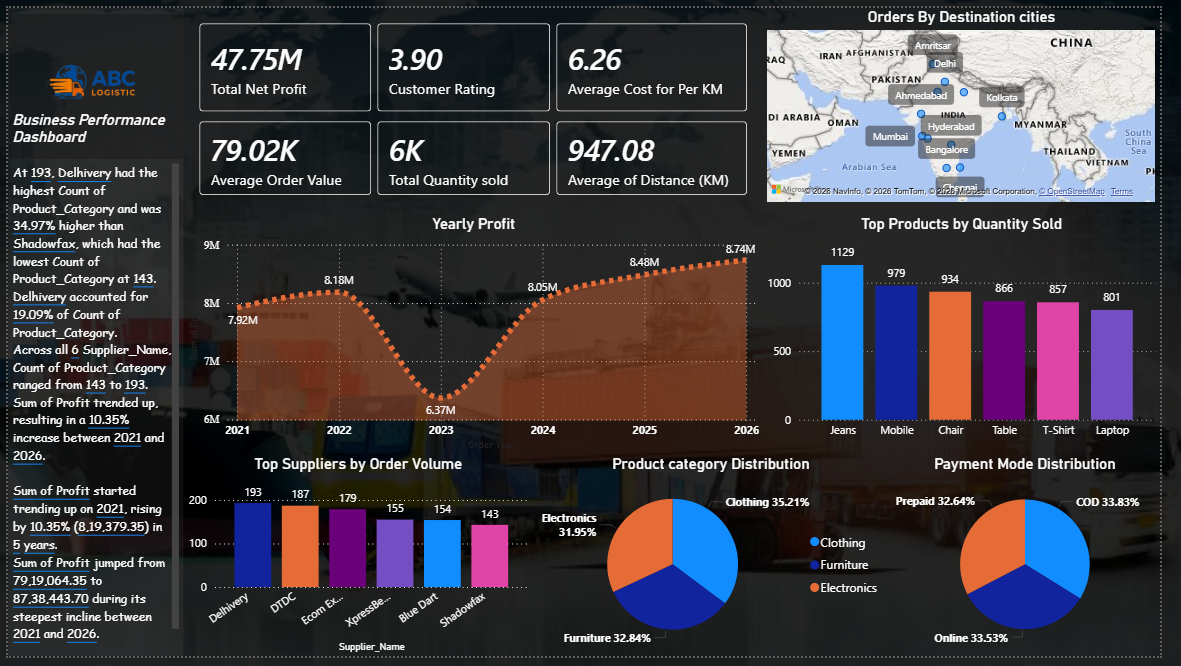

What the dashboard file says about the page in this screenshot:
{"tool":"powerbi","page":{"name":"Dashboard","canvas":[1280,720],"ordinal":0},"visuals":[{"type":"cardVisual","fields":{"Data":["Logistic.total quantity sold"]},"box":[393.8,108.8,226.2,116.2],"z":0},{"type":"cardVisual","title":"Customer Rating","fields":{"Data":["Avg(Logistic.Customer_Rating)"]},"box":[393.8,0,226.2,132.5],"z":1000},{"type":"cardVisual","fields":{"Data":["Sum(Logistic.Profit)"]},"box":[195,0,225,132.5],"z":2000},{"type":"cardVisual","fields":{"Data":["Logistic.Average ordervalue"]},"box":[195,108.8,225,116.2],"z":3000},{"type":"shape","box":[0,0,195,720],"z":4000},{"type":"pieChart","title":"Product category Distribution","fields":{"Category":["Logistic.Product_Category"],"Y":["CountNonNull(Logistic.Product_Category)"]},"box":[582.5,496.2,397.5,223.8],"z":5000},{"type":"pieChart","title":"Payment Mode Distribution","fields":{"Category":["Logistic.Payment_Mode"],"Y":["CountNonNull(Logistic.Payment_Mode)"]},"box":[980,496.2,300,223.8],"z":6000},{"type":"cardVisual","title":"Customer Rating","fields":{"Data":["Avg(Logistic.Cost_per_KM)"]},"box":[592.5,0,246.2,132.5],"z":7000},{"type":"cardVisual","title":"Customer Rating","fields":{"Data":["Avg(Logistic.Distance_KM)"]},"box":[592.5,108.8,246.2,116.2],"z":8000},{"type":"map","title":"Orders By Destination cities","fields":{"Category":["Logistic.Destination_City"]},"box":[838.9,0,441.1,221.1],"z":9000},{"type":"lineChart","title":"Yearly Profit","fields":{"Y":["Sum(Logistic.Profit)"],"Category":["Logistic.Order Year"]},"box":[195,230,643.8,266.2],"z":10000},{"type":"columnChart","title":"Top Products by Quantity Sold","fields":{"Category":["Logistic.Product_Name"],"Y":["Sum(Logistic.Quantity)"],"Series":["Logistic.Product_Name"]},"box":[838.8,230,441.2,257.5],"z":11000},{"type":"lineStackedColumnComboChart","title":"Top Suppliers by Order Volume","fields":{"Category":["Logistic.Supplier_Name"],"Y":["CountNonNull(Logistic.Product_Category)"],"Series":["Logistic.Supplier_Name"]},"box":[195,496.2,387.5,223.8],"z":12000},{"type":"textbox","box":[0,6.2,195,161.2],"z":13000},{"type":"textbox","box":[0,167.5,195,552.5],"z":14000},{"type":"image","box":[0,0,195,167.5],"z":15000}]}

Visuals, with their boxes in screenshot pixels (x1, y1, x2, y2), scaled from the page's 1280x720 canvas onto the 1181x666 screenshot:
cardVisual - Logistic.total quantity sold: (x1=363, y1=101, x2=572, y2=208)
"Customer Rating" cardVisual: (x1=363, y1=0, x2=572, y2=123)
cardVisual - Sum(Logistic.Profit): (x1=180, y1=0, x2=388, y2=123)
cardVisual - Logistic.Average ordervalue: (x1=180, y1=101, x2=388, y2=208)
shape: (x1=0, y1=0, x2=180, y2=665)
"Product category Distribution" pieChart: (x1=537, y1=459, x2=904, y2=665)
"Payment Mode Distribution" pieChart: (x1=904, y1=459, x2=1180, y2=665)
"Customer Rating" cardVisual: (x1=547, y1=0, x2=774, y2=123)
"Customer Rating" cardVisual: (x1=547, y1=101, x2=774, y2=208)
"Orders By Destination cities" map: (x1=774, y1=0, x2=1180, y2=205)
"Yearly Profit" lineChart: (x1=180, y1=213, x2=774, y2=459)
"Top Products by Quantity Sold" columnChart: (x1=774, y1=213, x2=1180, y2=451)
"Top Suppliers by Order Volume" lineStackedColumnComboChart: (x1=180, y1=459, x2=537, y2=665)
textbox: (x1=0, y1=6, x2=180, y2=155)
textbox: (x1=0, y1=155, x2=180, y2=665)
image: (x1=0, y1=0, x2=180, y2=155)
